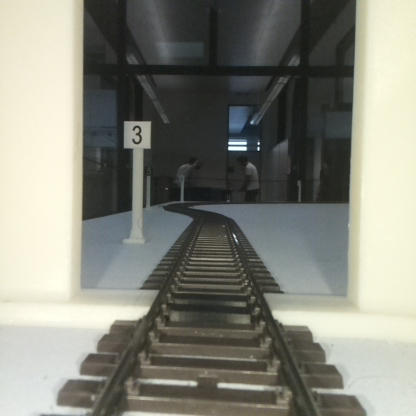white-info-3: (123, 120, 150, 242)
